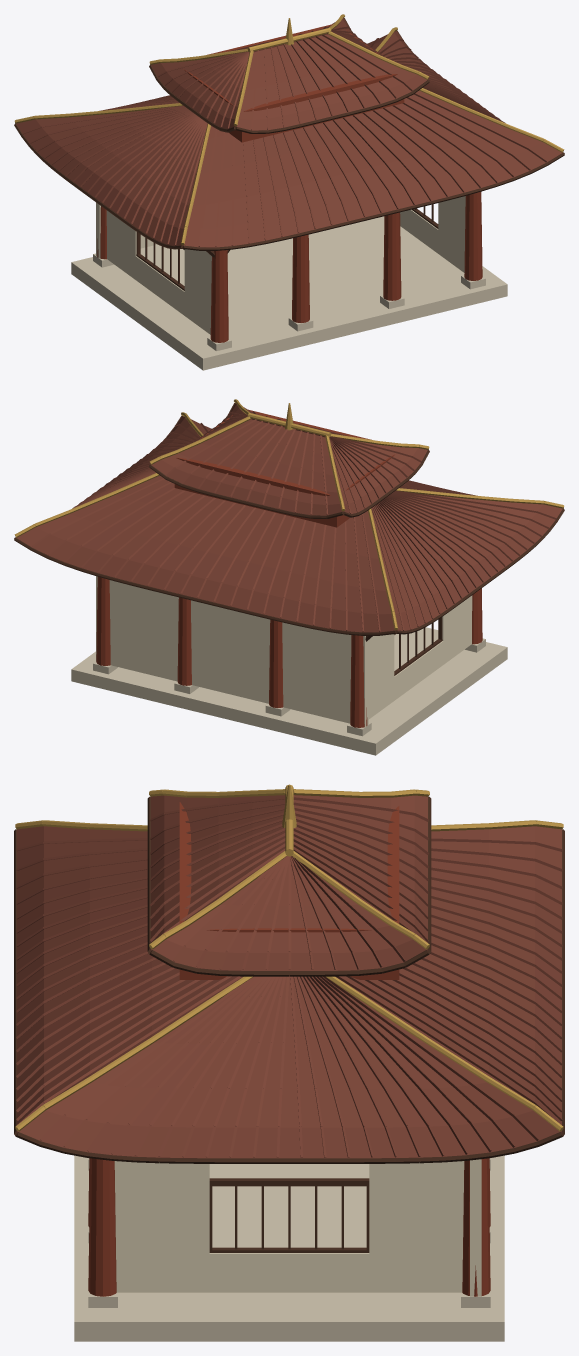
File: dien-duoc-su-blender.glb
3 renders of one model, top to bottom at view 1: azimuth 30°, elevation 25°; view 2: azimuth 150°, elevation 25°; view 3: azimuth 270°, elevation 25°, orthographic. The views are drawn at different scales.
Visible parts, largest first — view 1: dien-duoc-su-blender-tile, dien-duoc-su-blender-stone, dien-duoc-su-blender-timber, dien-duoc-su-blender-plaster, dien-duoc-su-blender-darkwood, dien-duoc-su-blender-gold; view 2: dien-duoc-su-blender-tile, dien-duoc-su-blender-plaster, dien-duoc-su-blender-stone, dien-duoc-su-blender-timber, dien-duoc-su-blender-darkwood, dien-duoc-su-blender-gold; view 3: dien-duoc-su-blender-tile, dien-duoc-su-blender-stone, dien-duoc-su-blender-plaster, dien-duoc-su-blender-darkwood, dien-duoc-su-blender-gold, dien-duoc-su-blender-timber.
Part boxes in pixels (box(x1,y1,x2,y2)): dien-duoc-su-blender-tile: box(16, 18, 563, 247); dien-duoc-su-blender-stone: box(71, 216, 507, 370); dien-duoc-su-blender-timber: box(97, 24, 482, 342); dien-duoc-su-blender-plaster: box(96, 196, 465, 334); dien-duoc-su-blender-darkwood: box(14, 18, 564, 290); dien-duoc-su-blender-gold: box(14, 14, 564, 245); dien-duoc-su-blender-tile: box(15, 403, 562, 632); dien-duoc-su-blender-plaster: box(96, 576, 472, 726); dien-duoc-su-blender-stone: box(71, 627, 507, 755); dien-duoc-su-blender-timber: box(96, 409, 482, 727); dien-duoc-su-blender-darkwood: box(14, 403, 564, 675); dien-duoc-su-blender-gold: box(14, 399, 564, 630); dien-duoc-su-blender-tile: box(16, 795, 562, 1158); dien-duoc-su-blender-stone: box(74, 1155, 504, 1341); dien-duoc-su-blender-plaster: box(114, 1159, 481, 1296); dien-duoc-su-blender-darkwood: box(14, 796, 564, 1252); dien-duoc-su-blender-gold: box(15, 784, 563, 1131); dien-duoc-su-blender-timber: box(88, 802, 490, 1296).
Size of the model in its own units: 15.13 by 10.05 by 11.53.
